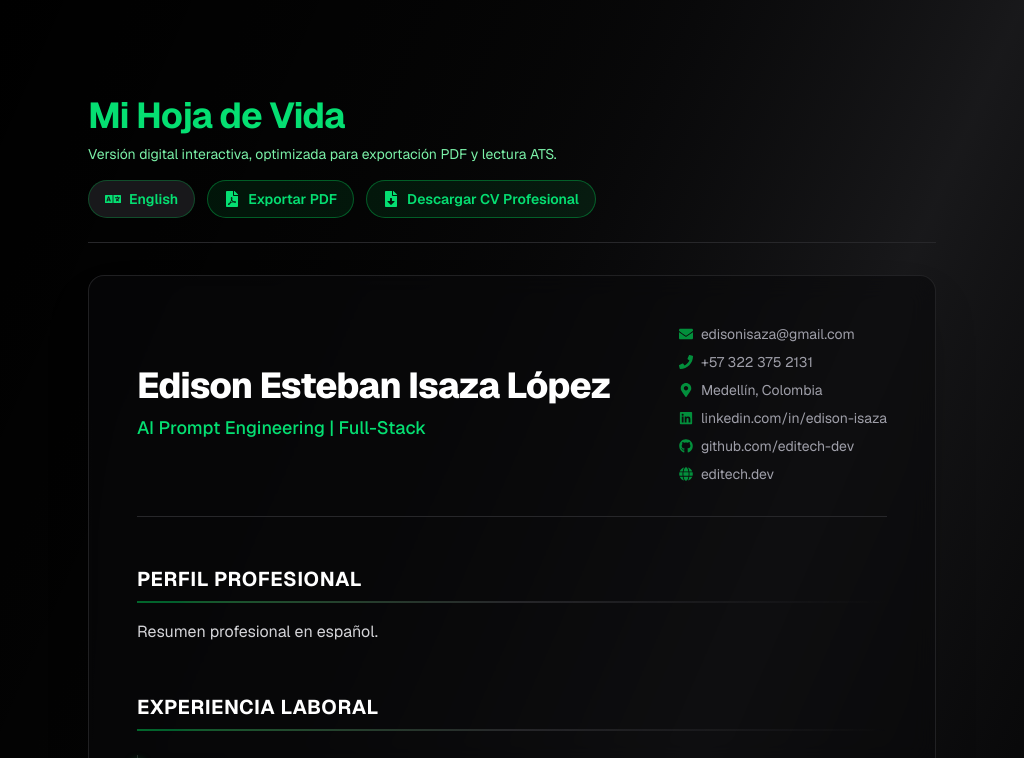
Test: CvClientPage › switches language from ES to EN when toggle is clicked
Expected: the heading "Perfil Profesional" is shown, x1=137 y1=566 x2=362 y2=592
Expected: the heading "Experiencia Laboral" is shown, x1=137 y1=694 x2=379 y2=720
Click the button with aria-label "switch to english": {"x": 142, "y": 199} x1=88 y1=180 x2=195 y2=218
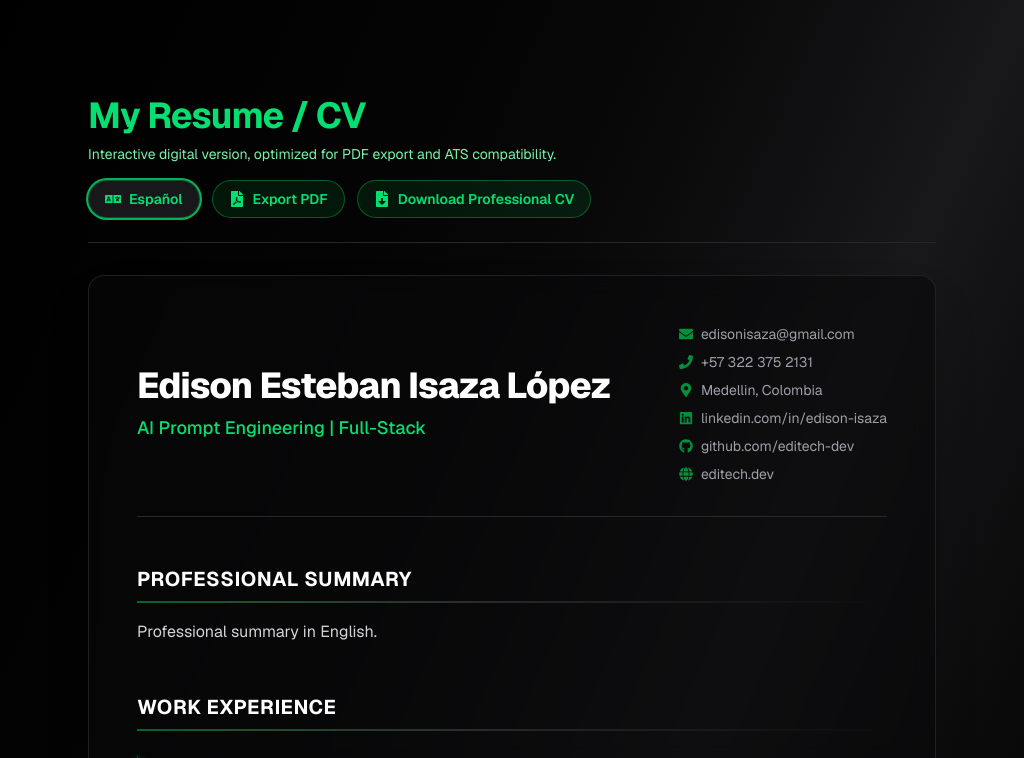
Expected: the heading "Professional Summary" is shown, x1=137 y1=566 x2=412 y2=592
Expected: the heading "Work Experience" is shown, x1=137 y1=694 x2=336 y2=720
Expected: the button "Download Professional CV" is shown, x1=357 y1=180 x2=592 y2=218
